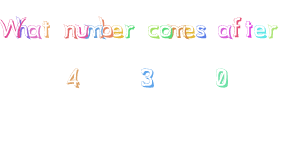0: (214, 66, 230, 88)
3: (138, 66, 156, 88)
4: (65, 67, 80, 88)
W: (1, 15, 20, 39)
a: (217, 23, 233, 40), (27, 23, 42, 40)
b: (98, 15, 113, 39)
c: (147, 23, 160, 39)
e: (111, 23, 124, 39), (183, 23, 195, 39), (254, 23, 266, 39)
f: (231, 16, 242, 38)
h: (15, 16, 29, 39)
m: (84, 22, 103, 39), (169, 23, 187, 39)
n: (63, 23, 78, 39)
o: (159, 24, 173, 39)
r: (124, 23, 135, 39), (268, 23, 278, 39)
s: (195, 23, 208, 40)
t: (41, 19, 51, 38), (244, 20, 253, 39)
u: (75, 23, 89, 39)
